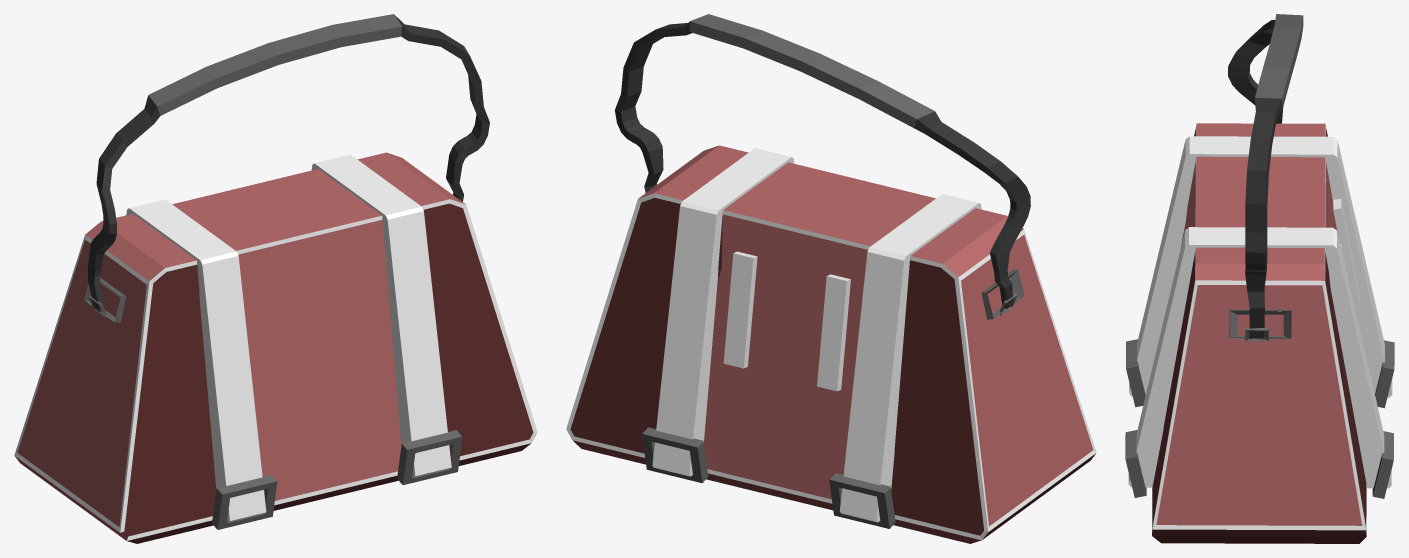
File: Gymbag model new.fbx
3 views of the same model, side by side, from view 1: azimuth 30°, elevation 25°; view 2: azimuth 150°, elevation 25°; view 3: azimuth 270°, elevation 25° (orthographic).
Visible parts, largest first — view 1: Gymbag; view 2: Gymbag; view 3: Gymbag.
Part boxes in pixels (x1,y1,x2,y2): Gymbag: (14,14,537,543); Gymbag: (566,14,1096,543); Gymbag: (1125,14,1394,543).
Bounding box in the file's own units: 181 × 169 × 100.
